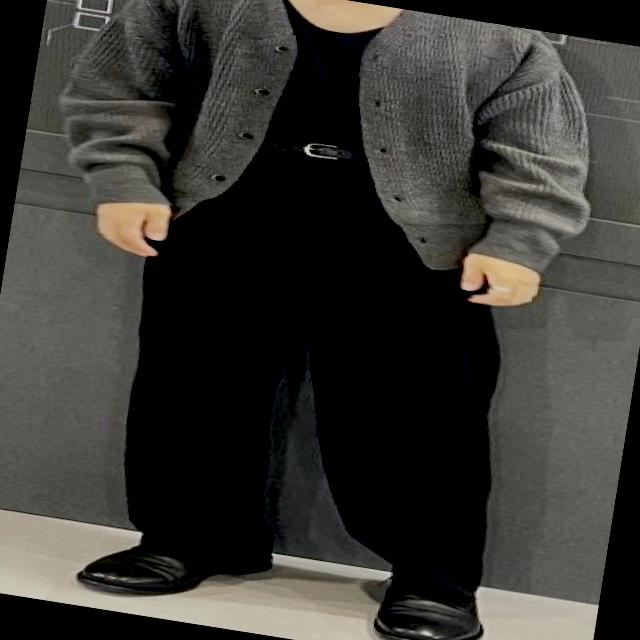cardigan: (42, 0, 621, 291)
slacks: (96, 130, 546, 617)
